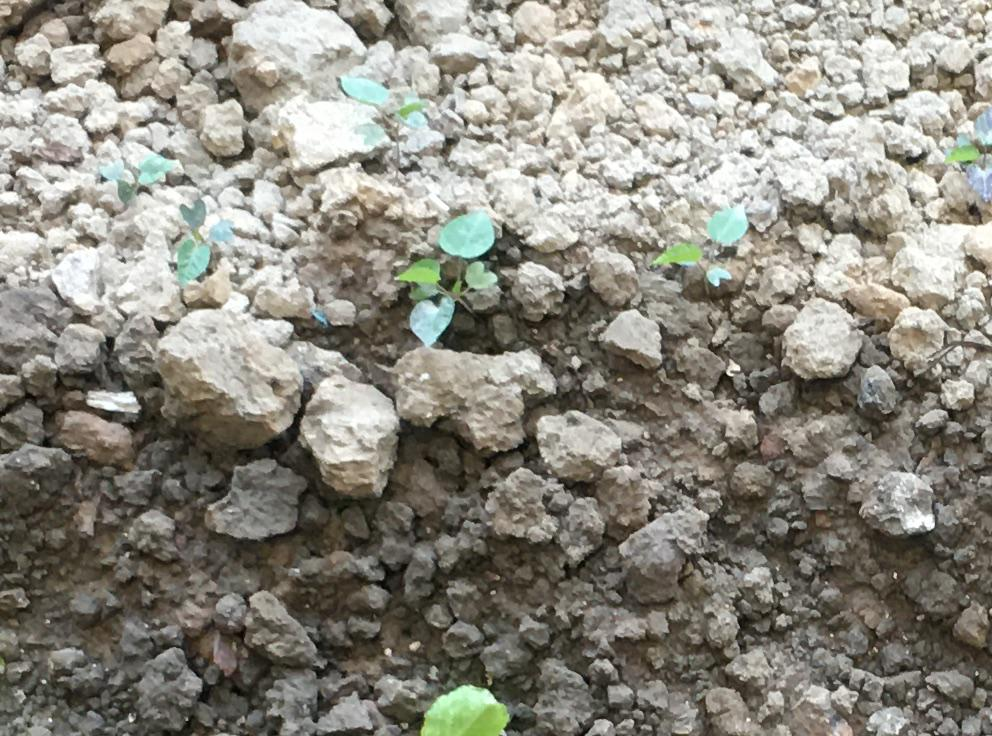block: (157, 303, 302, 458), (391, 343, 529, 449), (295, 370, 396, 508), (274, 94, 394, 174), (780, 289, 856, 382), (540, 413, 622, 487)
